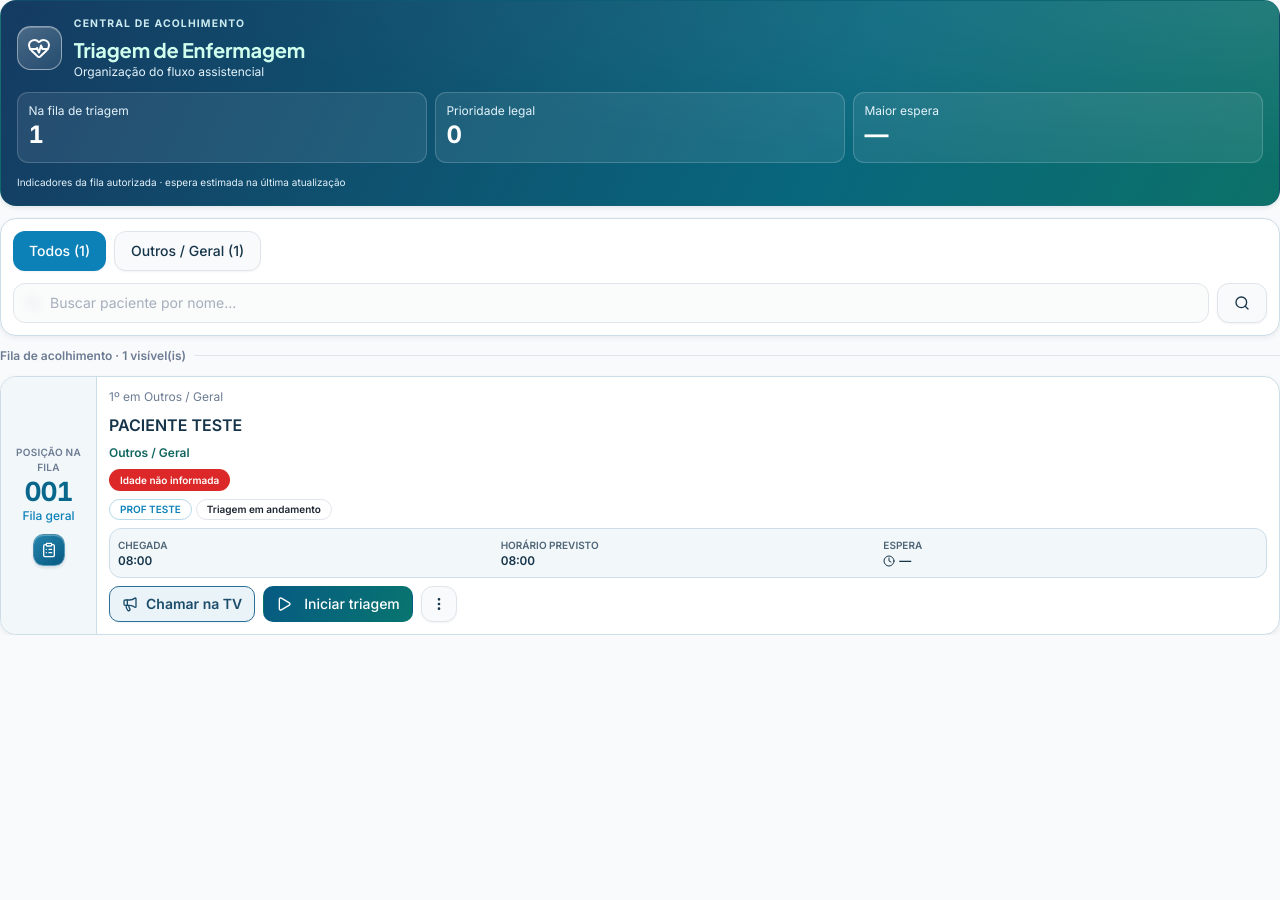
Triagem: bloqueio de valores antes da requisição › peso 63000 bloqueia confirmação e rascunho sem enviar ficha
Later steps or results of the test are not shown.
Click the button "Iniciar triagem". click: {"x": 338, "y": 604}
box: left=263, top=586, right=413, bottom=622
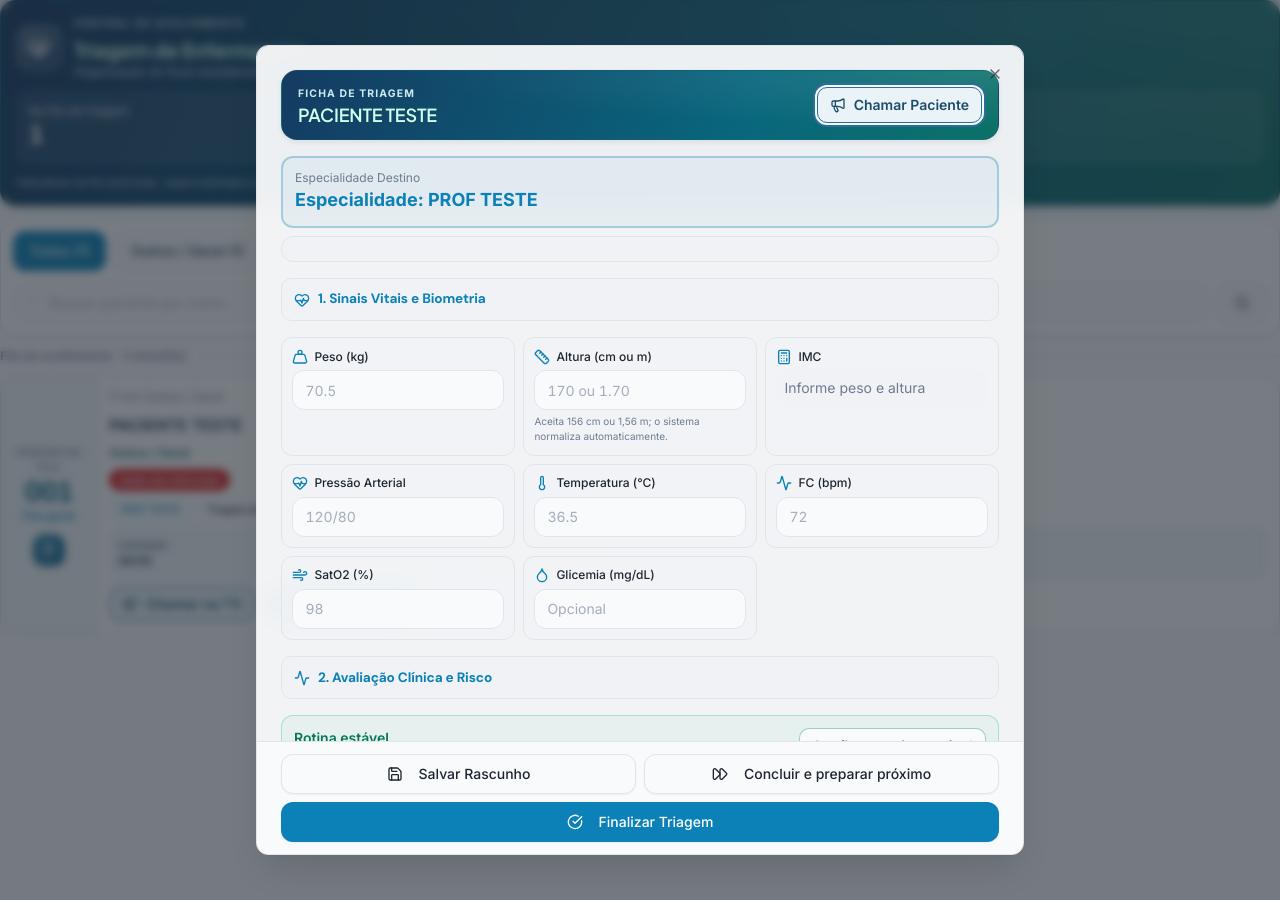
Now the field named "Peso (kg)" is shown
Type "63000" into the field named "Peso (kg)". click: {"x": 398, "y": 390}
box: left=292, top=370, right=504, bottom=410
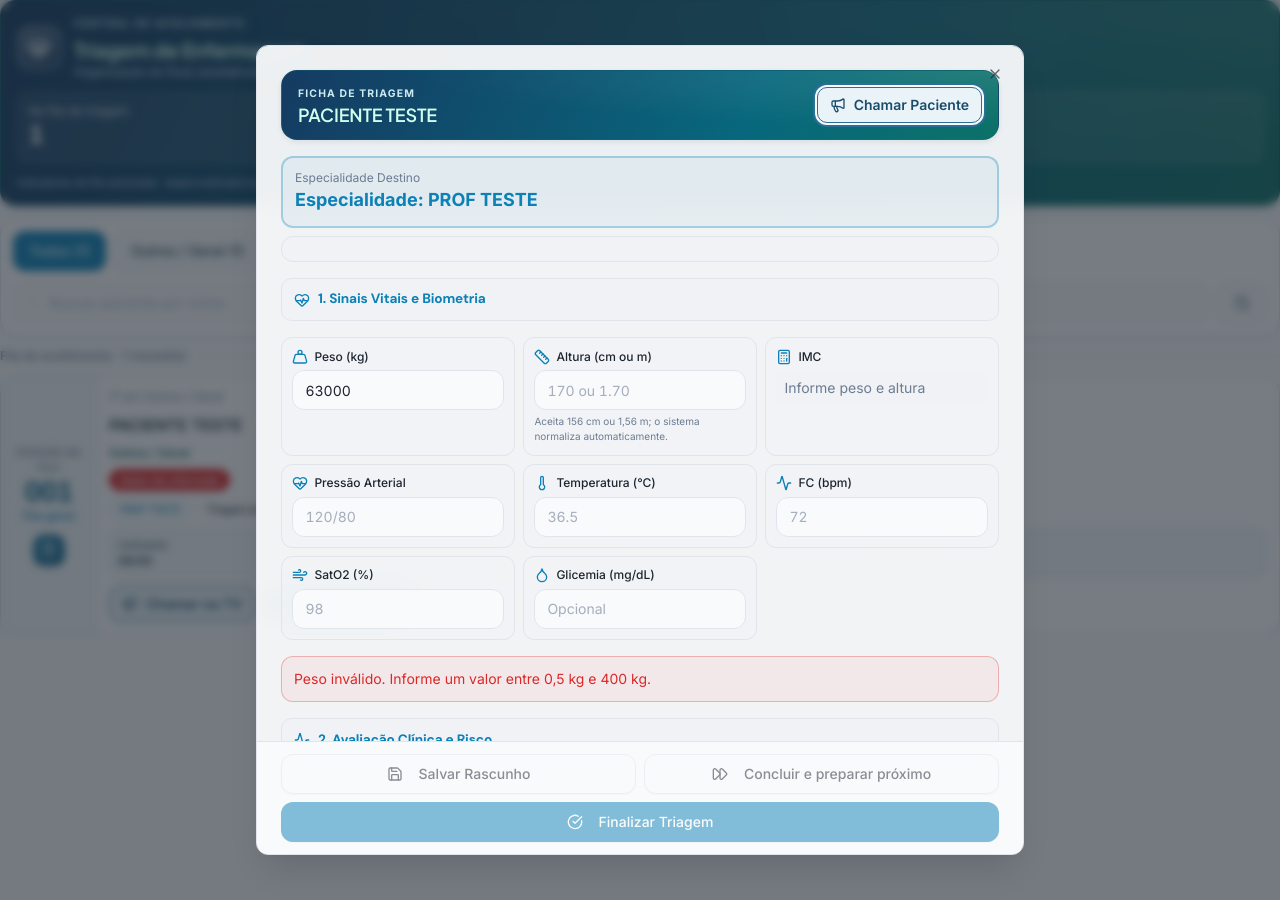
Now the message reads "Peso inválido. Informe um valor entre 0,5 kg e 400 kg.", box left=294, top=670, right=651, bottom=687
Now the button "Finalizar Triagem" is disabled, box left=281, top=802, right=999, bottom=842
Now the button "Salvar Rascunho" is disabled, box left=281, top=754, right=636, bottom=794
